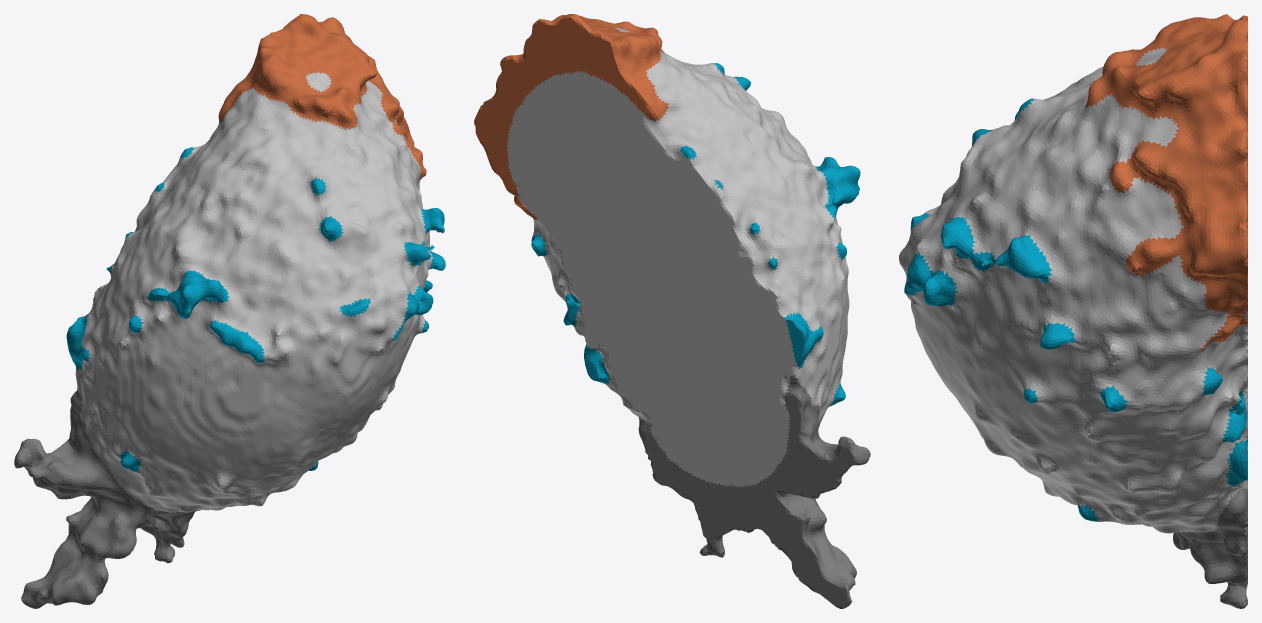
3 renders of one model, left to right at view 1: azimuth 30°, elevation 25°; view 2: azimuth 150°, elevation 25°; view 3: azimuth 270°, elevation 25°, orthographic. The views are drawn at different scales.
Bounding box in the file's own units: 120 × 156 × 70.73.
